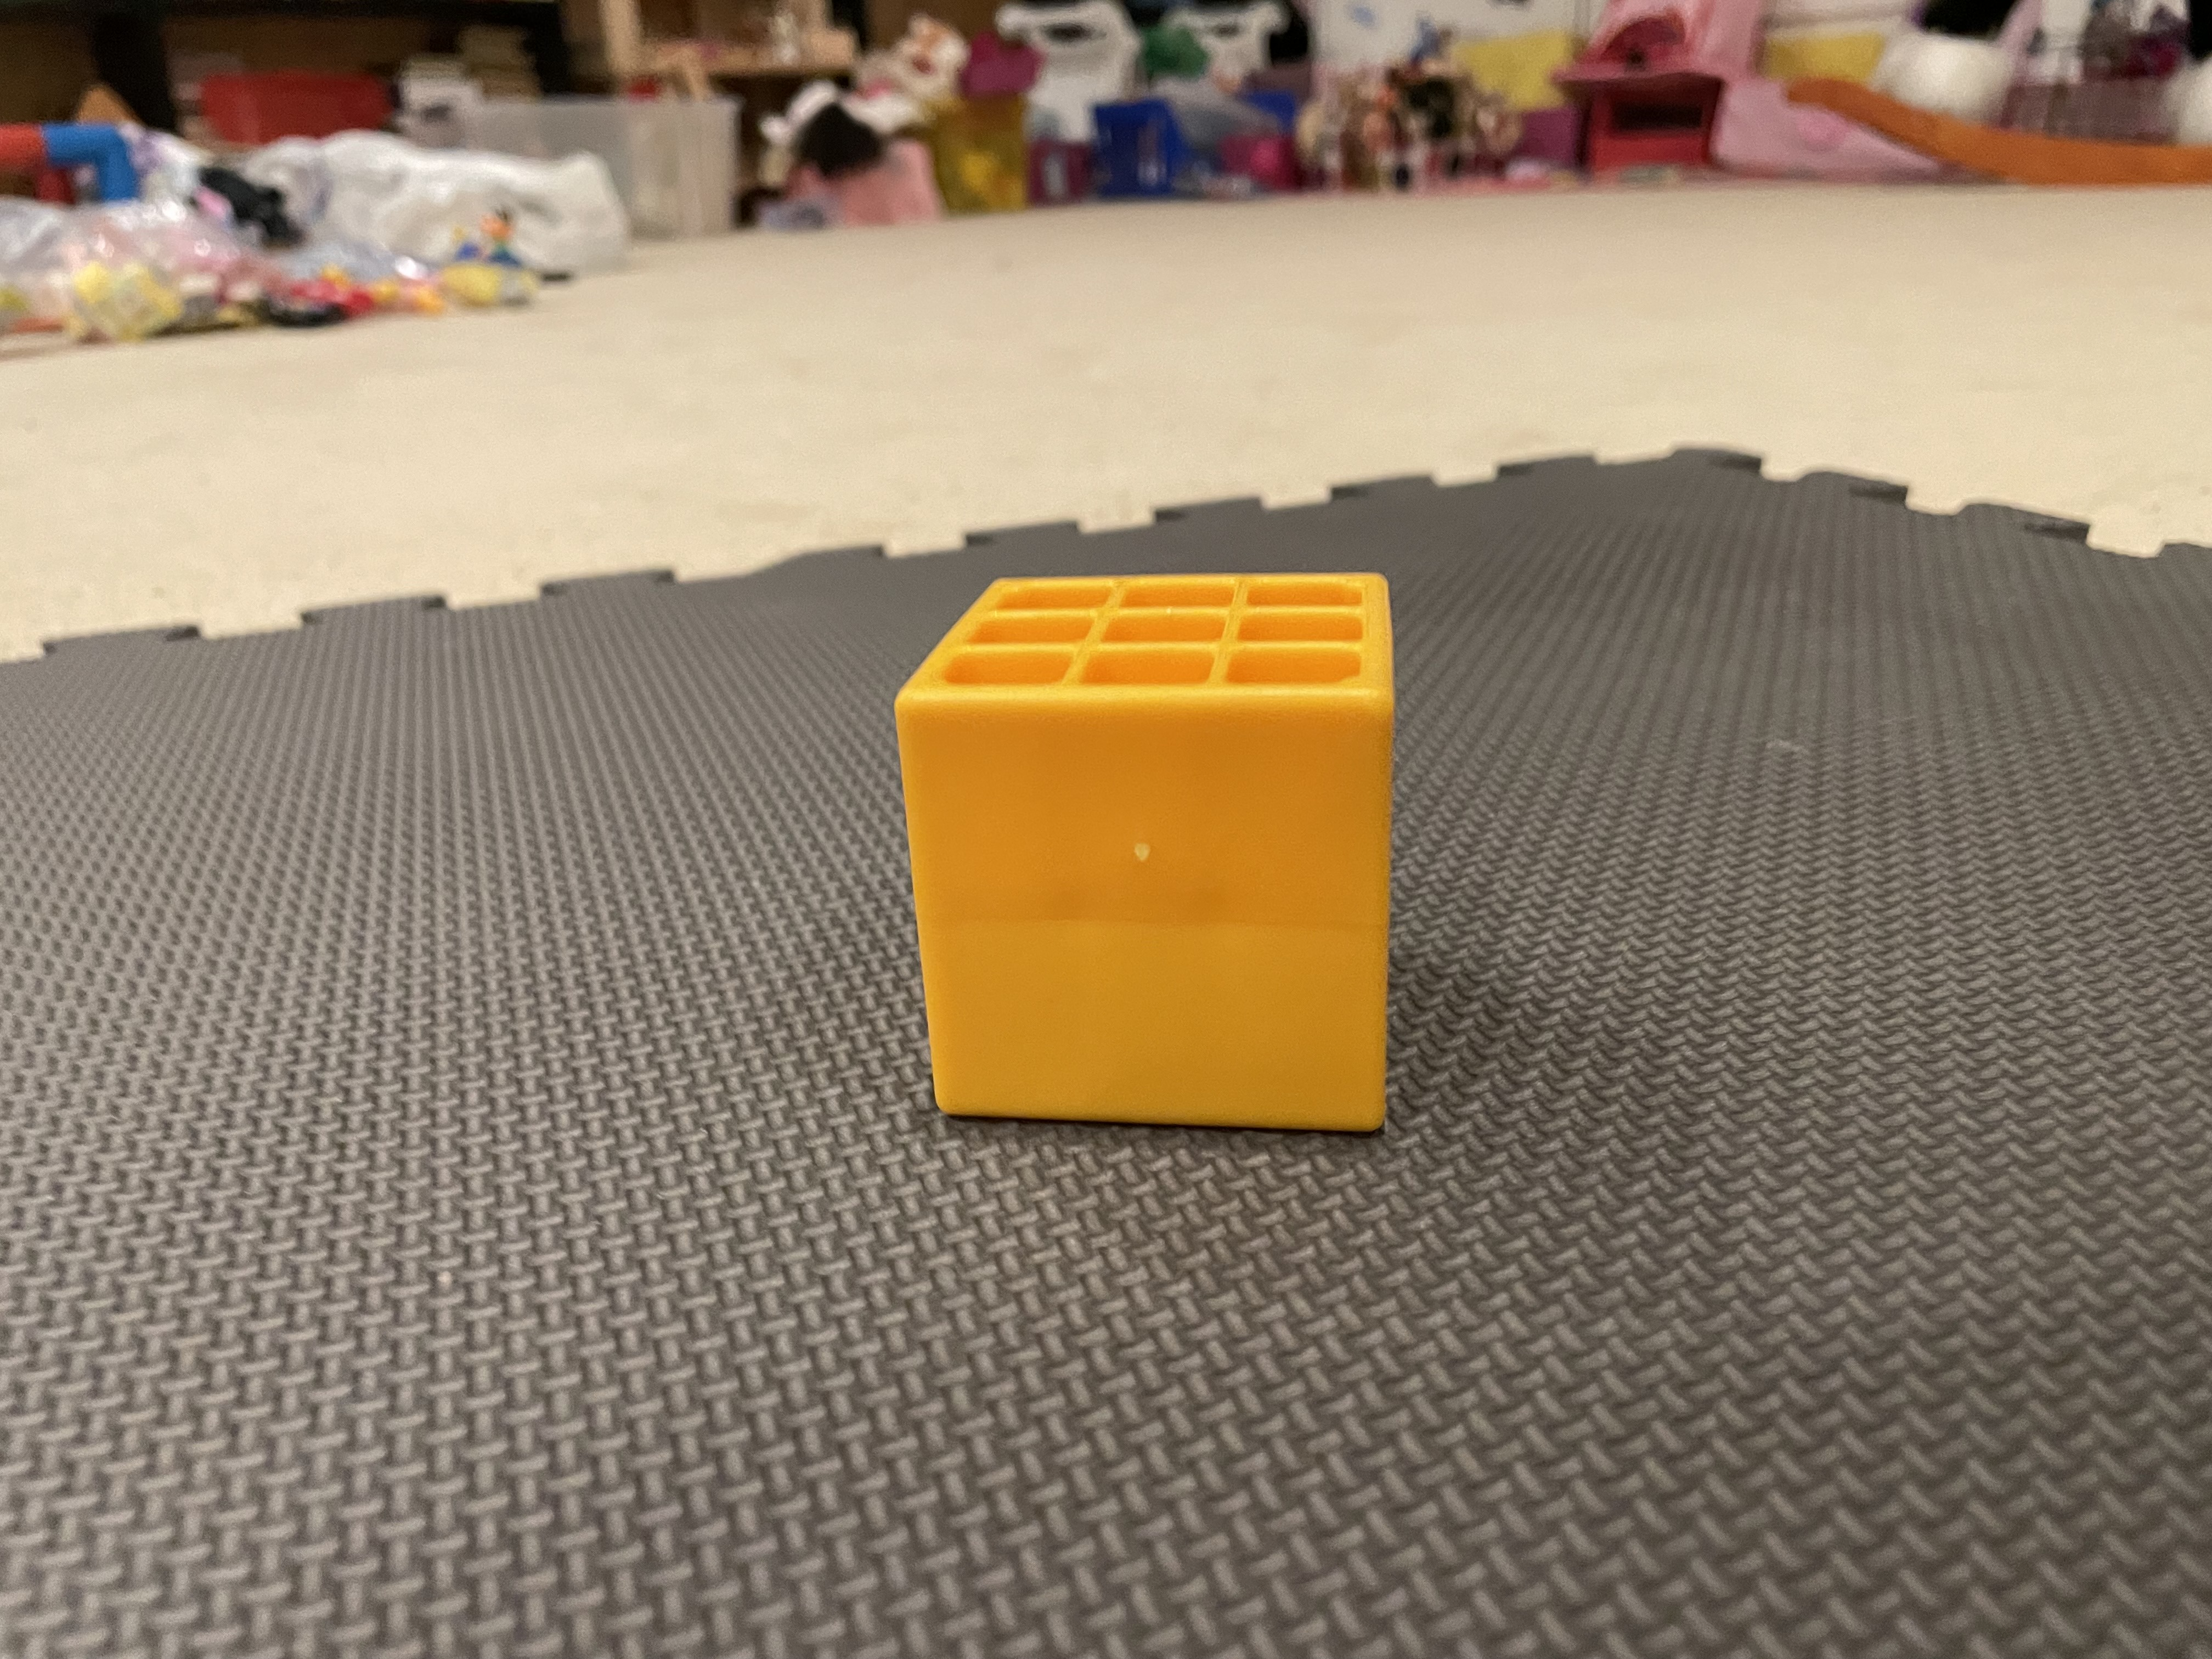cube: (840, 483, 1460, 1178)
